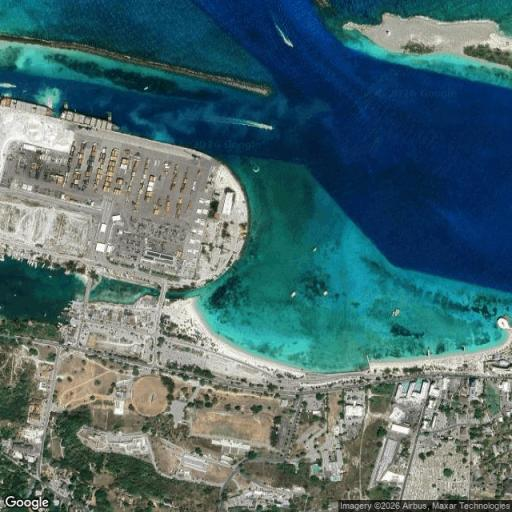ship: (202, 106, 302, 145), (60, 107, 121, 131), (2, 97, 57, 117), (26, 260, 34, 267), (34, 260, 39, 270)
